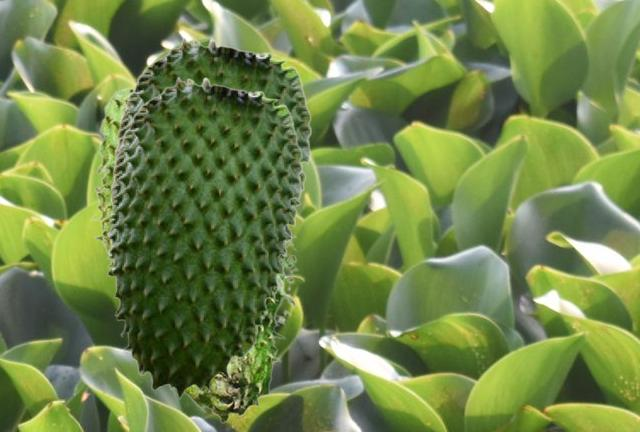guyabano: (91, 84, 299, 423), (106, 76, 302, 398), (112, 37, 311, 266)
